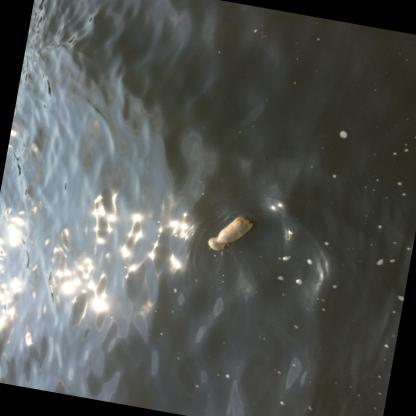Plastic: (207, 215, 252, 249)
